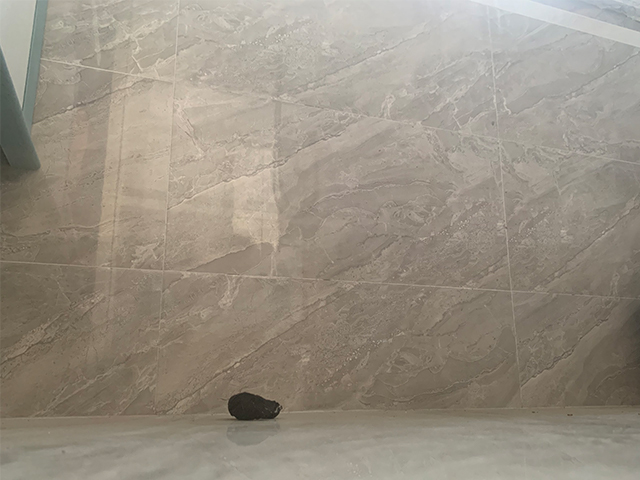feces: (227, 390, 282, 422)
